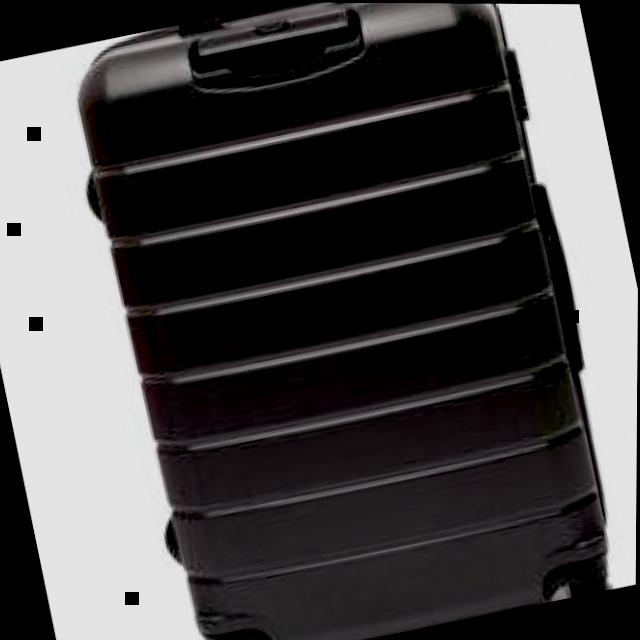luggage: (41, 0, 640, 640)
